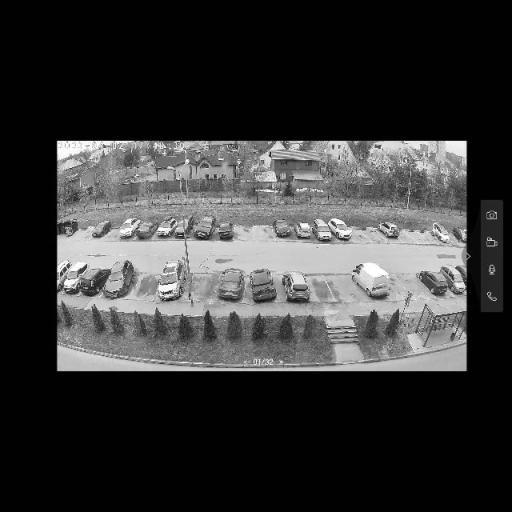busy: (150, 258, 190, 304), (210, 266, 254, 305), (101, 258, 142, 299), (352, 262, 394, 301), (244, 268, 282, 304), (80, 264, 110, 298), (282, 274, 318, 302), (186, 212, 219, 242), (418, 270, 450, 298), (440, 264, 467, 296), (58, 262, 83, 292), (315, 219, 344, 242), (324, 219, 352, 242), (428, 223, 458, 244), (154, 217, 182, 239), (118, 218, 144, 240), (86, 221, 112, 240), (270, 220, 294, 239), (135, 220, 156, 239), (215, 221, 235, 240), (378, 222, 400, 239), (294, 222, 314, 239), (452, 227, 466, 242)
free: (185, 274, 218, 304), (132, 272, 159, 300), (308, 276, 327, 304), (326, 281, 357, 298), (402, 274, 424, 297), (386, 274, 404, 298), (234, 221, 252, 243), (349, 226, 366, 244), (366, 225, 380, 244), (422, 225, 436, 244), (246, 228, 268, 240), (397, 230, 413, 245), (410, 227, 424, 242), (449, 231, 461, 246), (108, 226, 119, 240), (84, 230, 94, 240), (74, 230, 80, 242)
